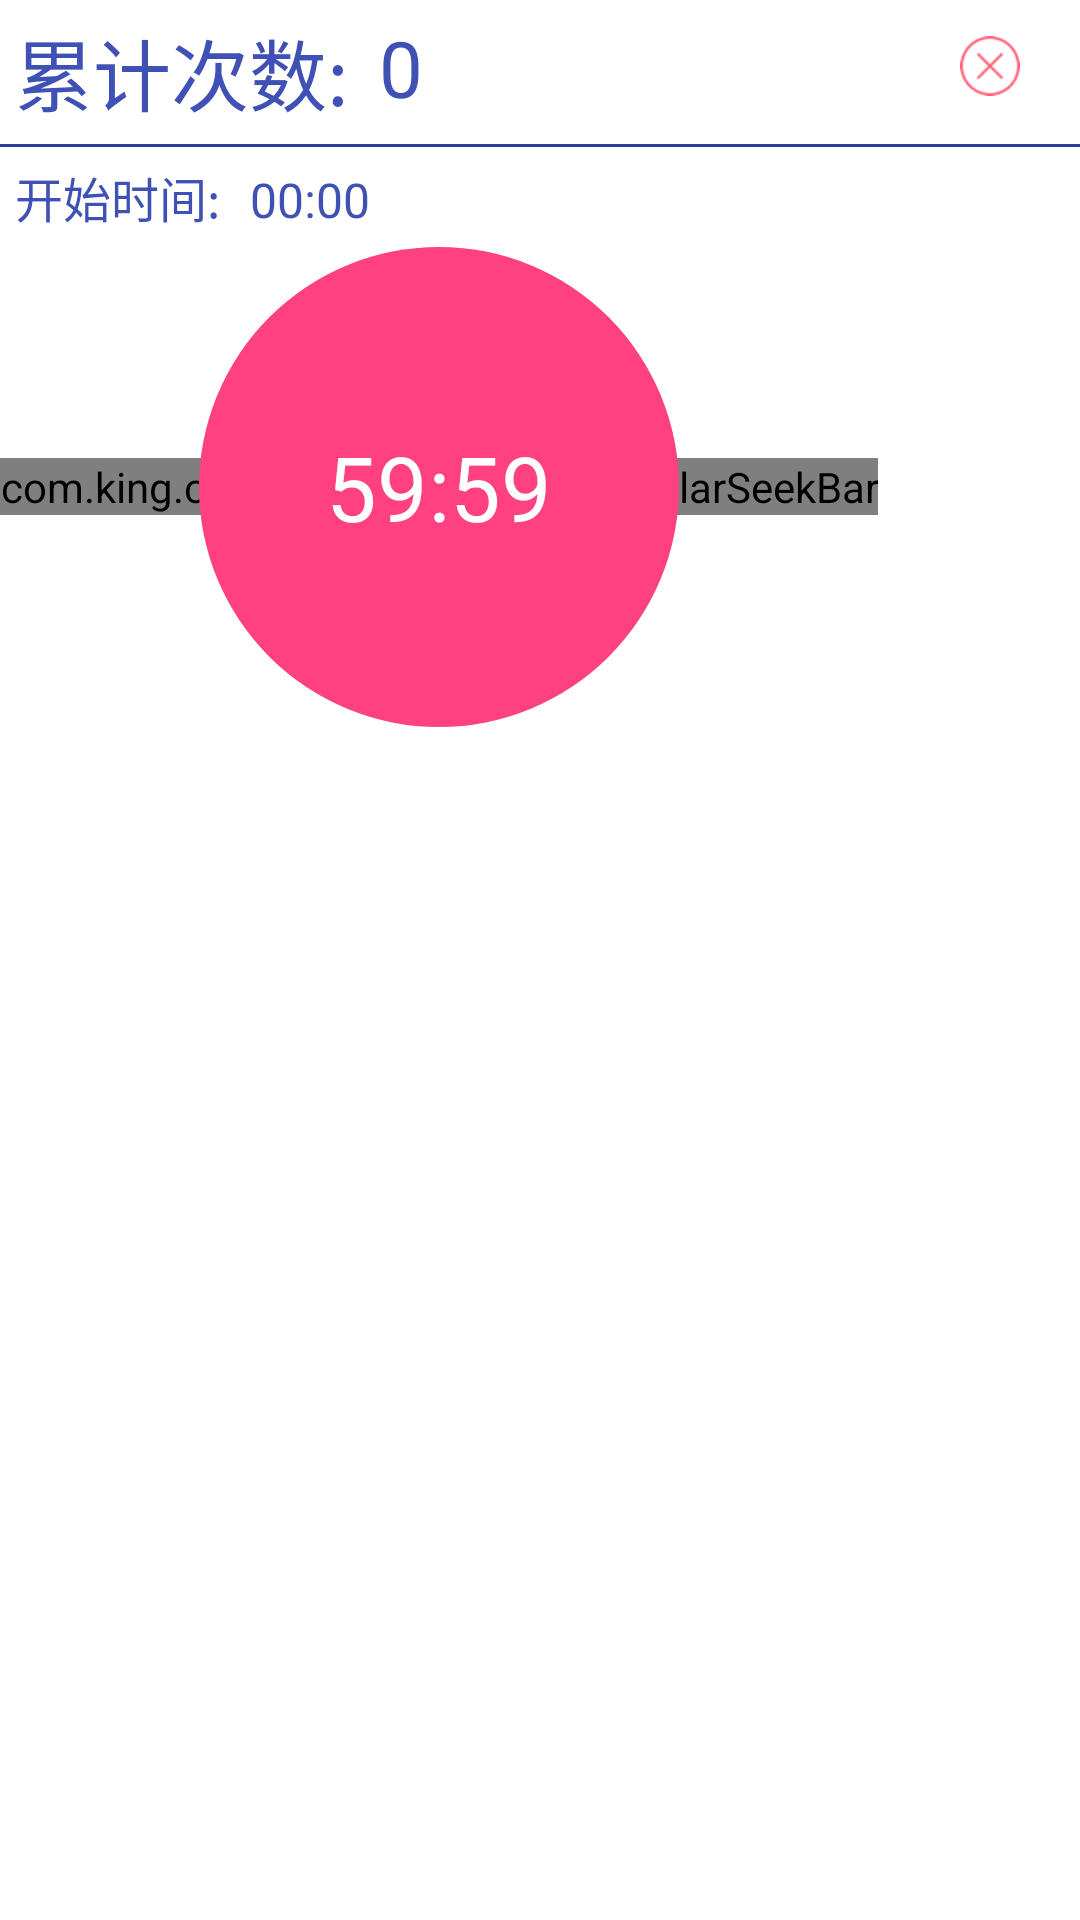

Icon click points for this 1080 × 1920 phone screenshot, format [x,y]:
close: [990,66]
